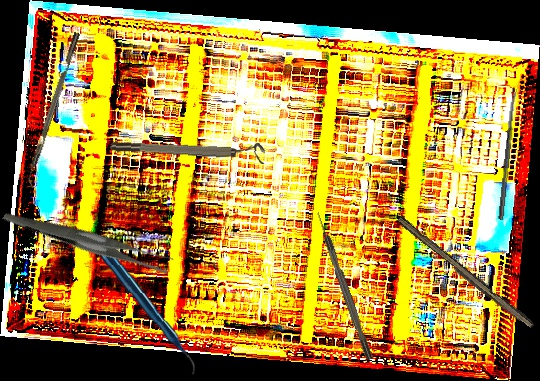Chopper: (22, 32, 88, 189)
Dressing Forceps: (2, 165, 176, 314)
Fixation Ring: (109, 133, 267, 164)
Handpiece: (92, 235, 196, 380)
Hook Surgical: (314, 210, 374, 362)
Scalpel Handle: (393, 215, 537, 332)
Surgical Spoon: (498, 88, 518, 220)
